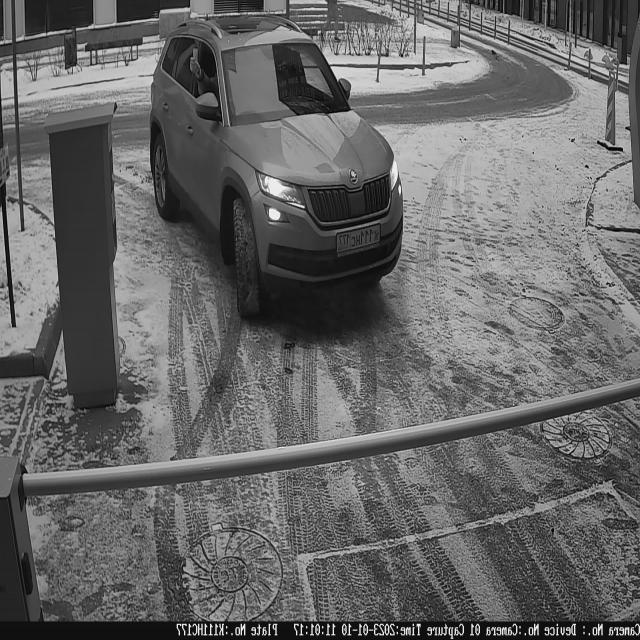car-plate-numbers: (336, 221, 385, 258)
